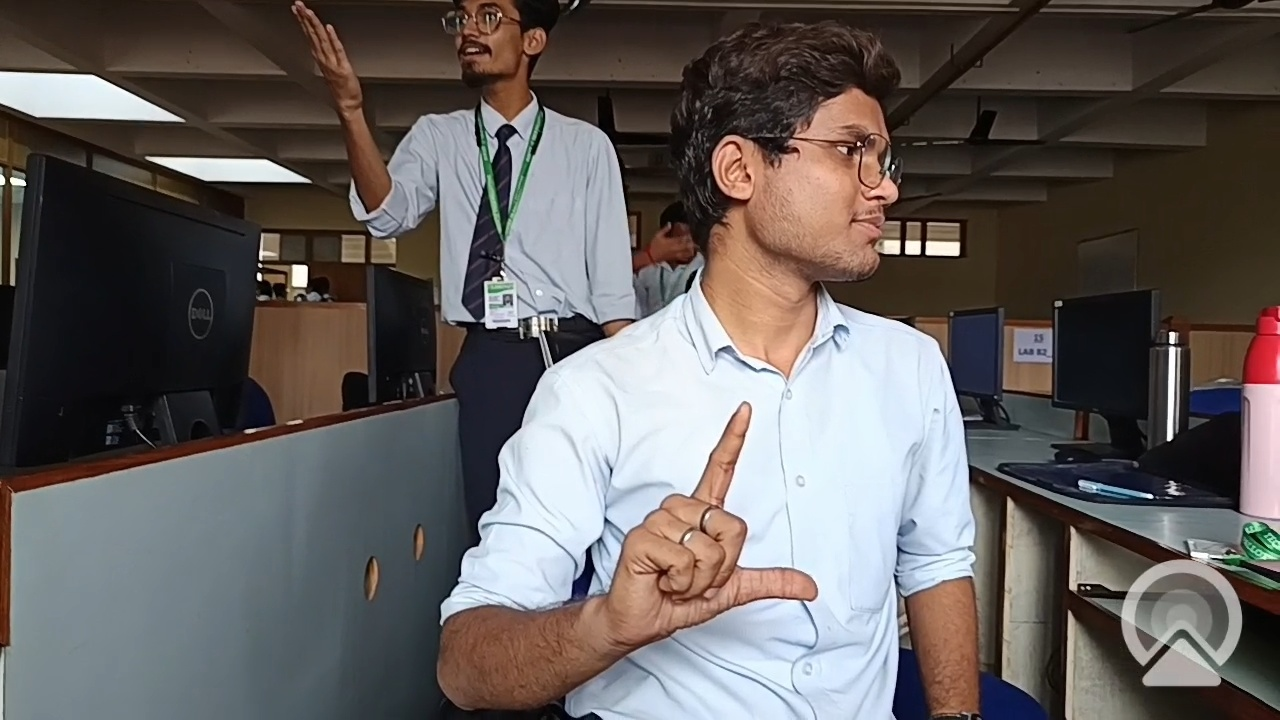L: (578, 370, 857, 682)
